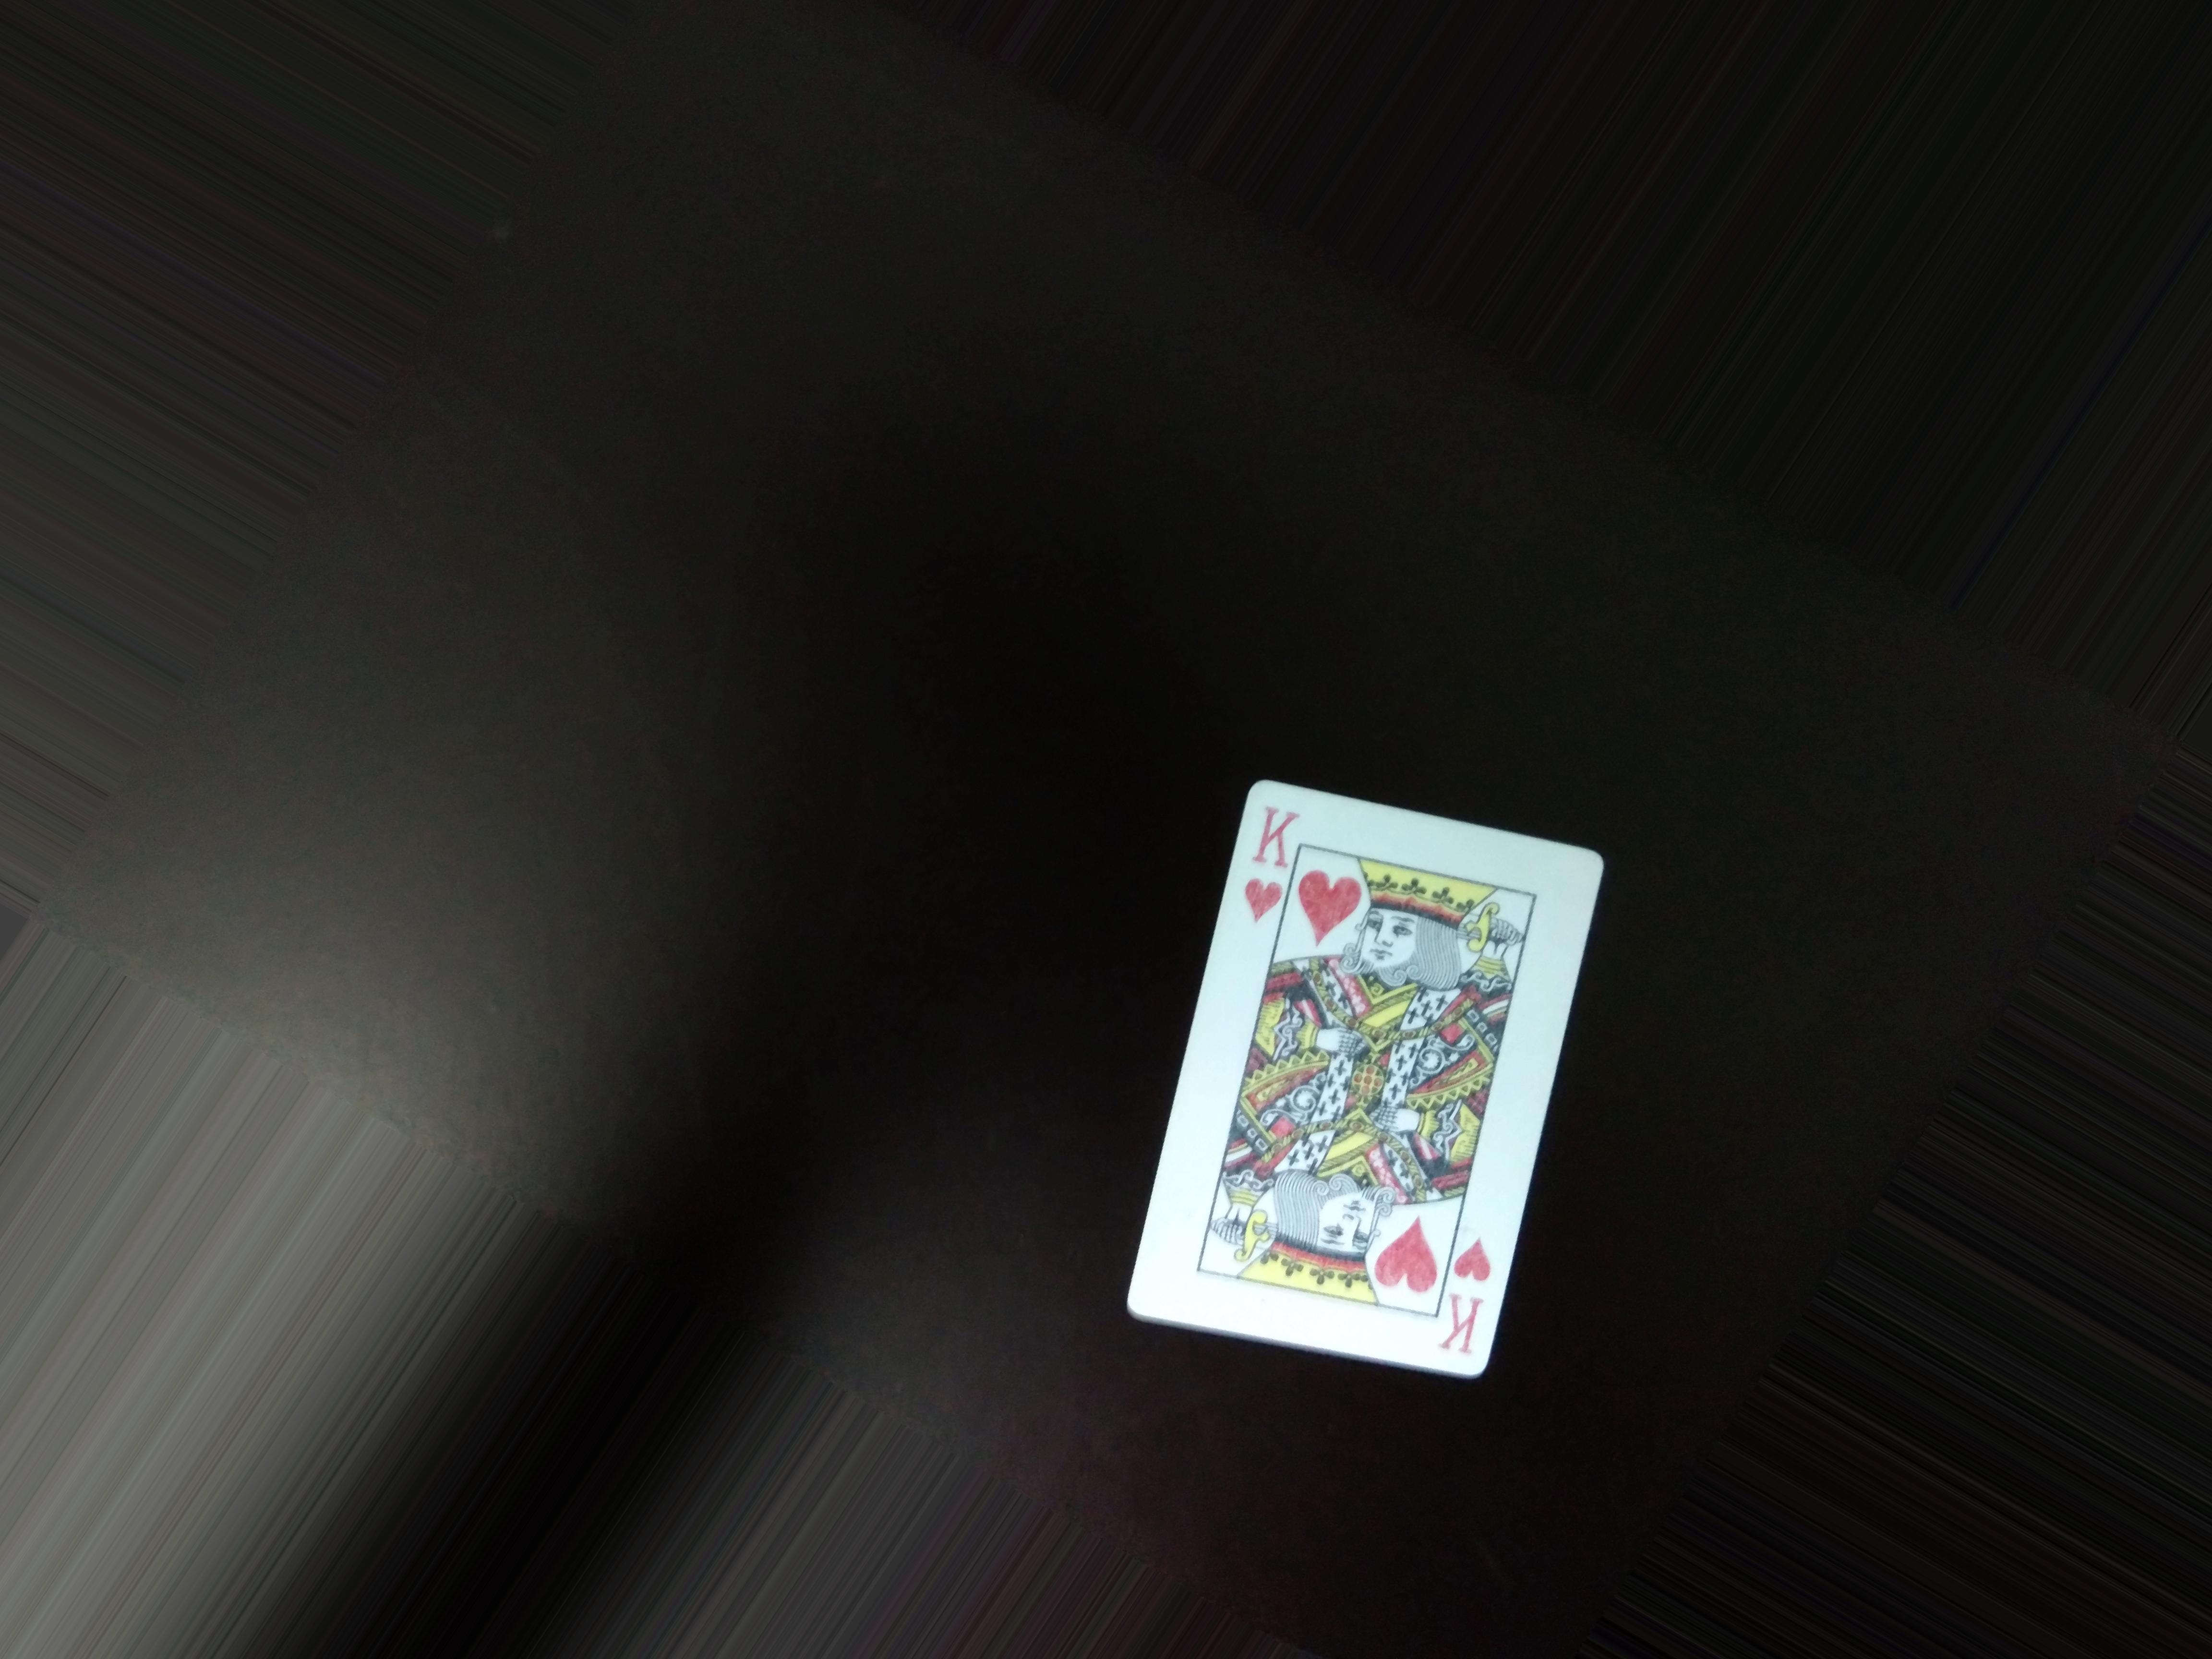KH: (1437, 1234, 1510, 1368)
